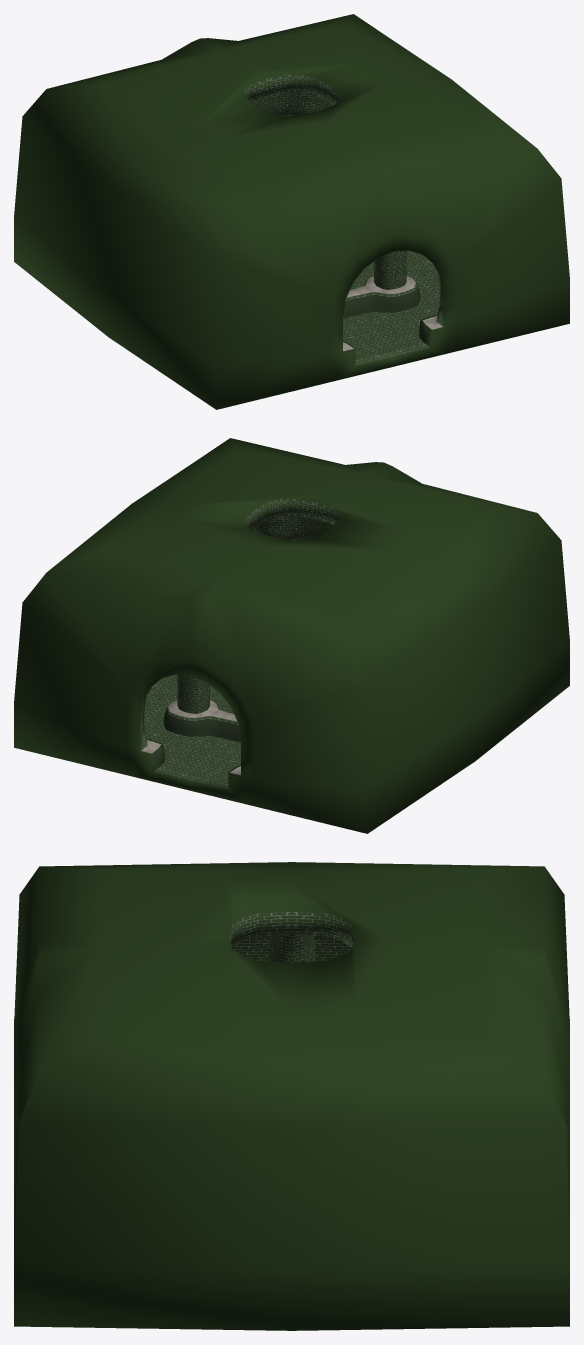
Rendered from SewerModule_OpenRoom_1_001.fbx.
3 renders of one model, top to bottom at view 1: azimuth 30°, elevation 25°; view 2: azimuth 150°, elevation 25°; view 3: azimuth 270°, elevation 25°, orthographic. The views are drawn at different scales.
Visible parts, largest first — view 1: Big_Start.002; view 2: Big_Start.002; view 3: Big_Start.002.
Boxes of the visible parts, left/top/right/bottom form: Big_Start.002: left=14, top=14, right=569, bottom=409; Big_Start.002: left=14, top=438, right=569, bottom=833; Big_Start.002: left=14, top=862, right=569, bottom=1330.
Size of the model in its own units: 2926 by 1614 by 2800.
